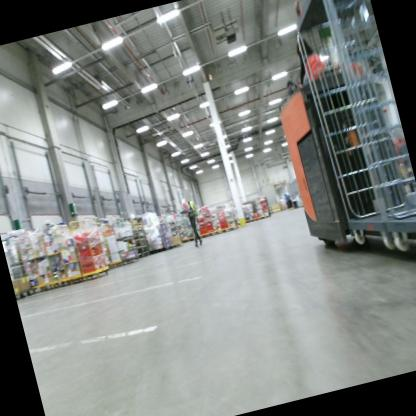pallet_truck: (267, 44, 416, 284)
